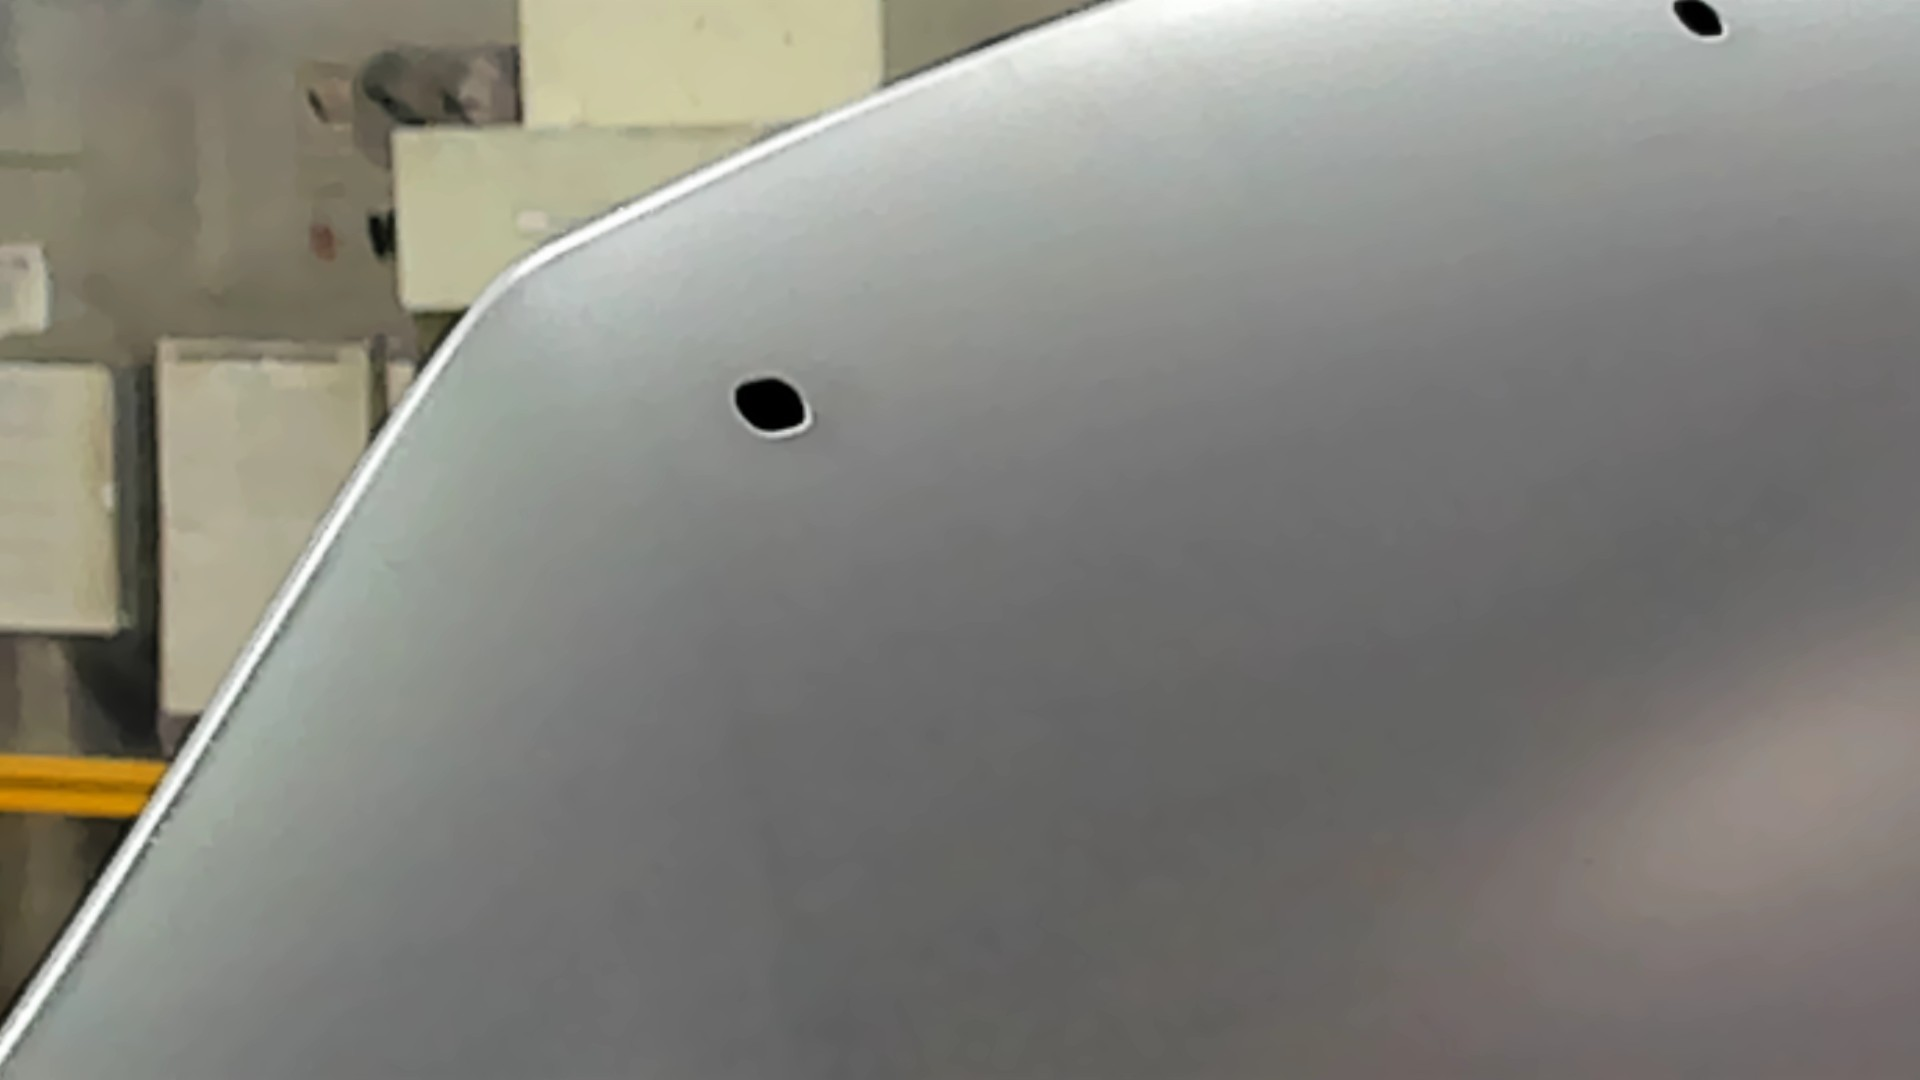amorfo: (720, 367, 824, 446), (1662, 1, 1737, 47)
capo: (919, 100, 1920, 1080)
